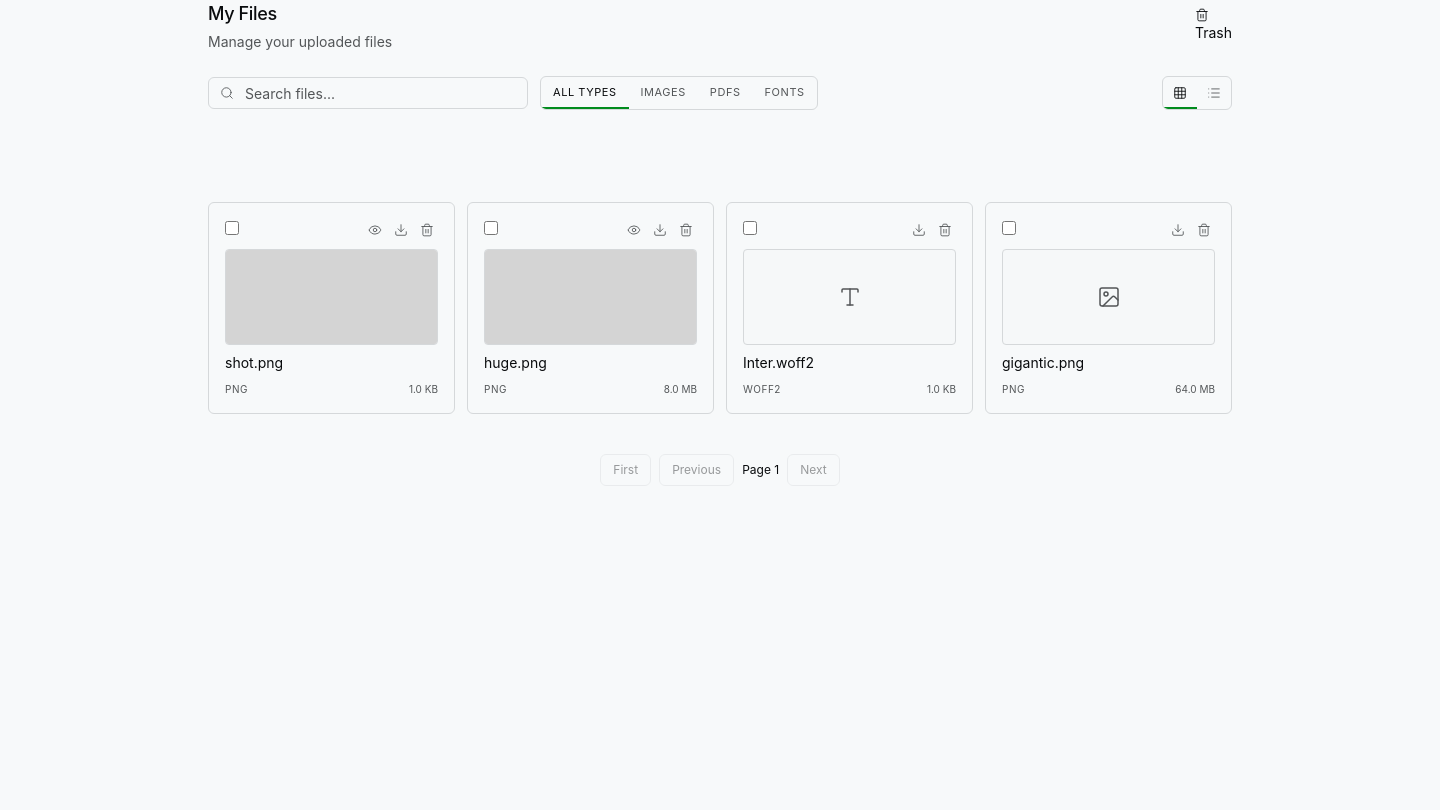
Scenario: FilesPage preview › opens the preview dialog from the list without refetching the file
Step 1. Click the 1st button named "Preview shot.png" → (375, 230), box [364,219,386,241]
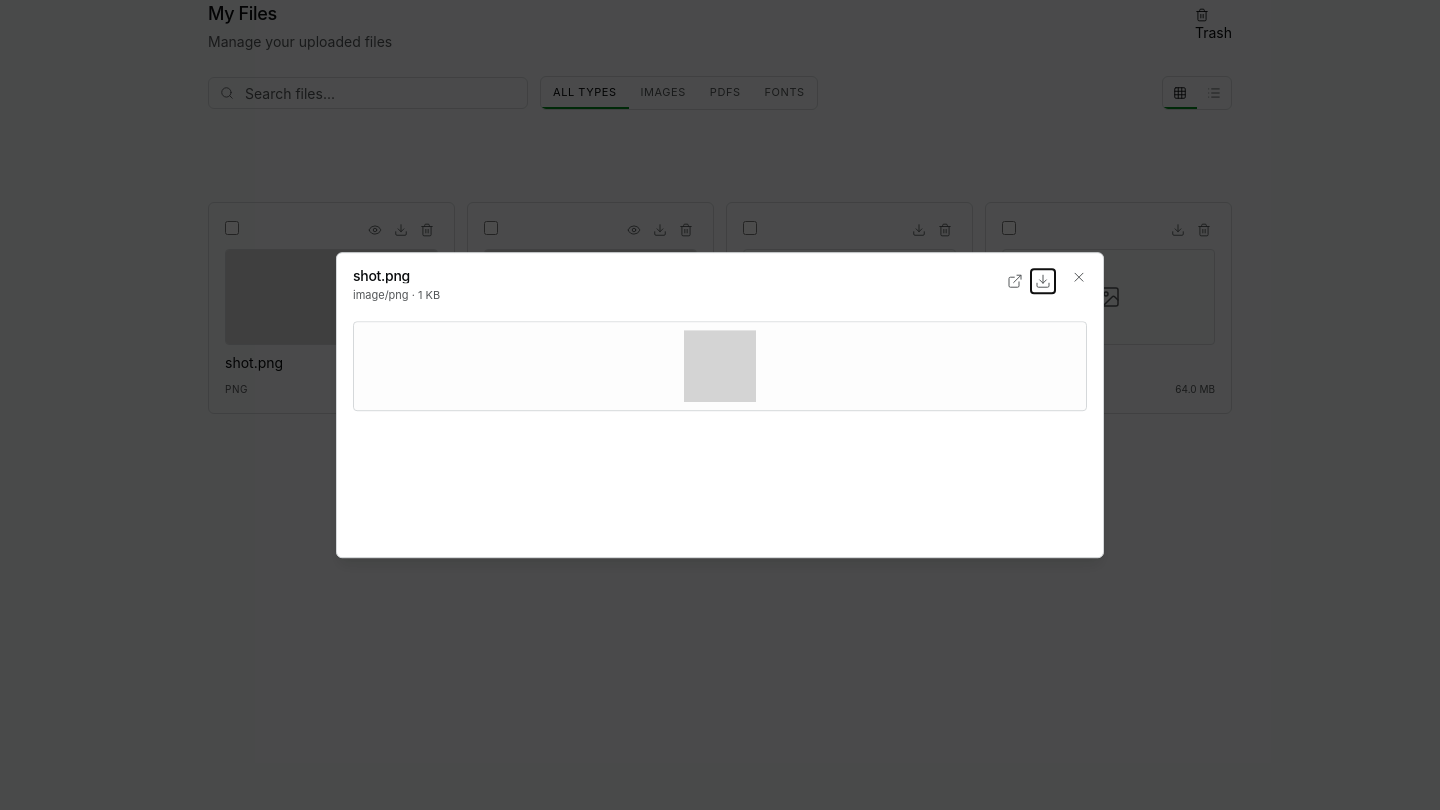
Expected: the dialog is shown, [336,252,1104,558]
